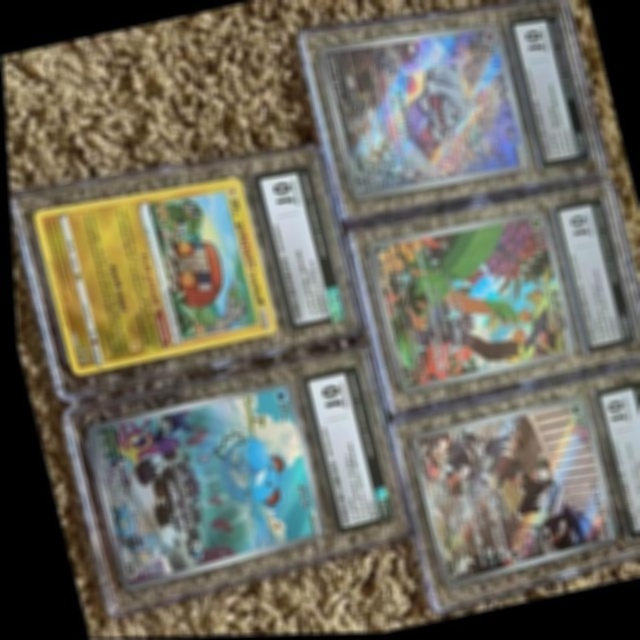card: (80, 381, 320, 593), (29, 177, 274, 379), (403, 398, 612, 593), (363, 210, 571, 397), (317, 23, 528, 205)
